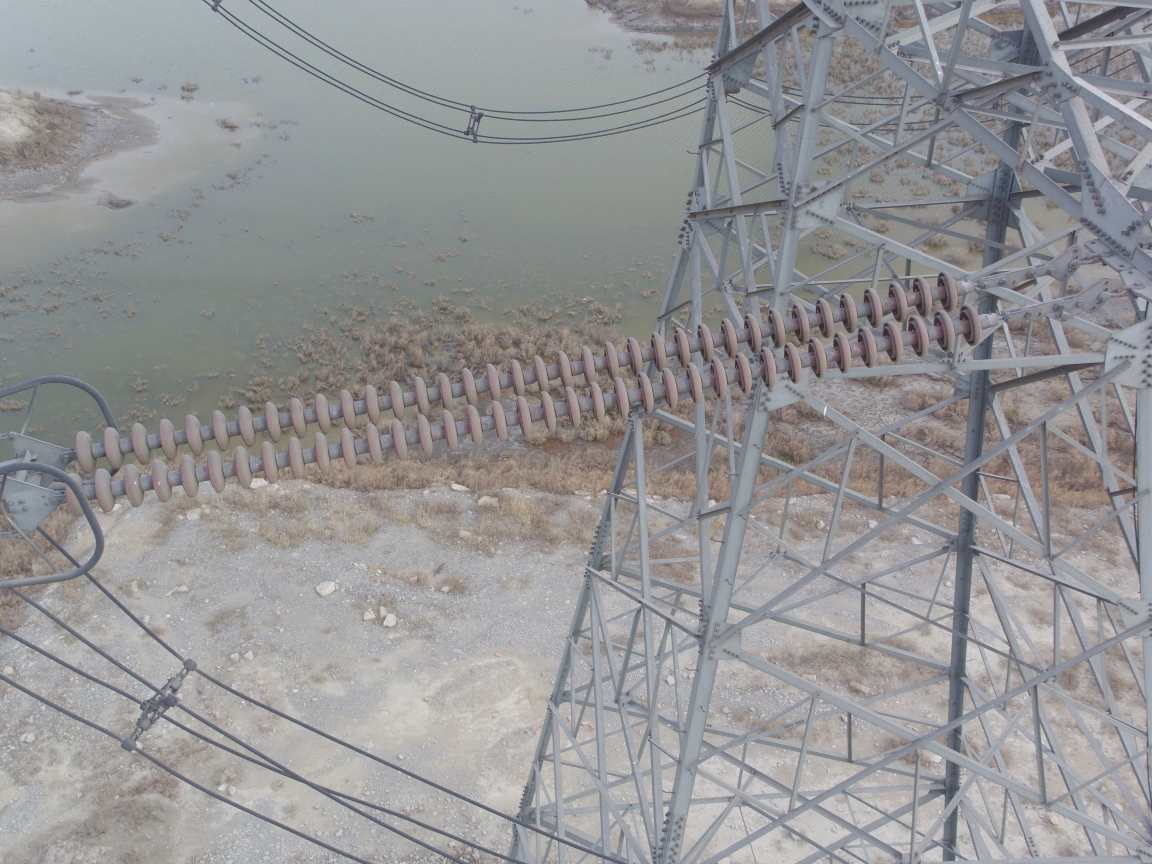insulator: (40, 267, 1028, 524)
